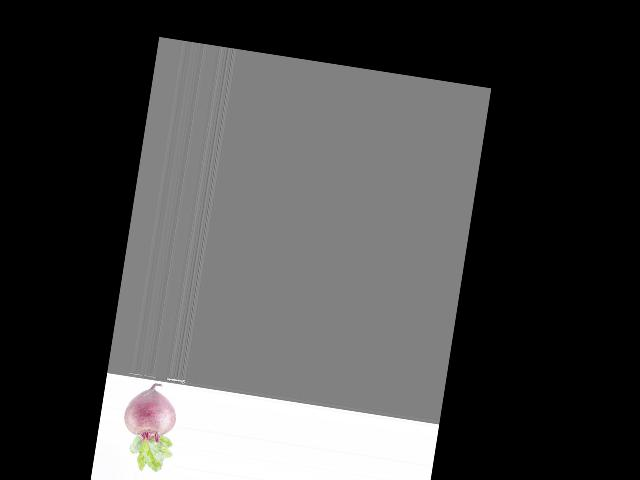beet: (115, 379, 182, 475)
